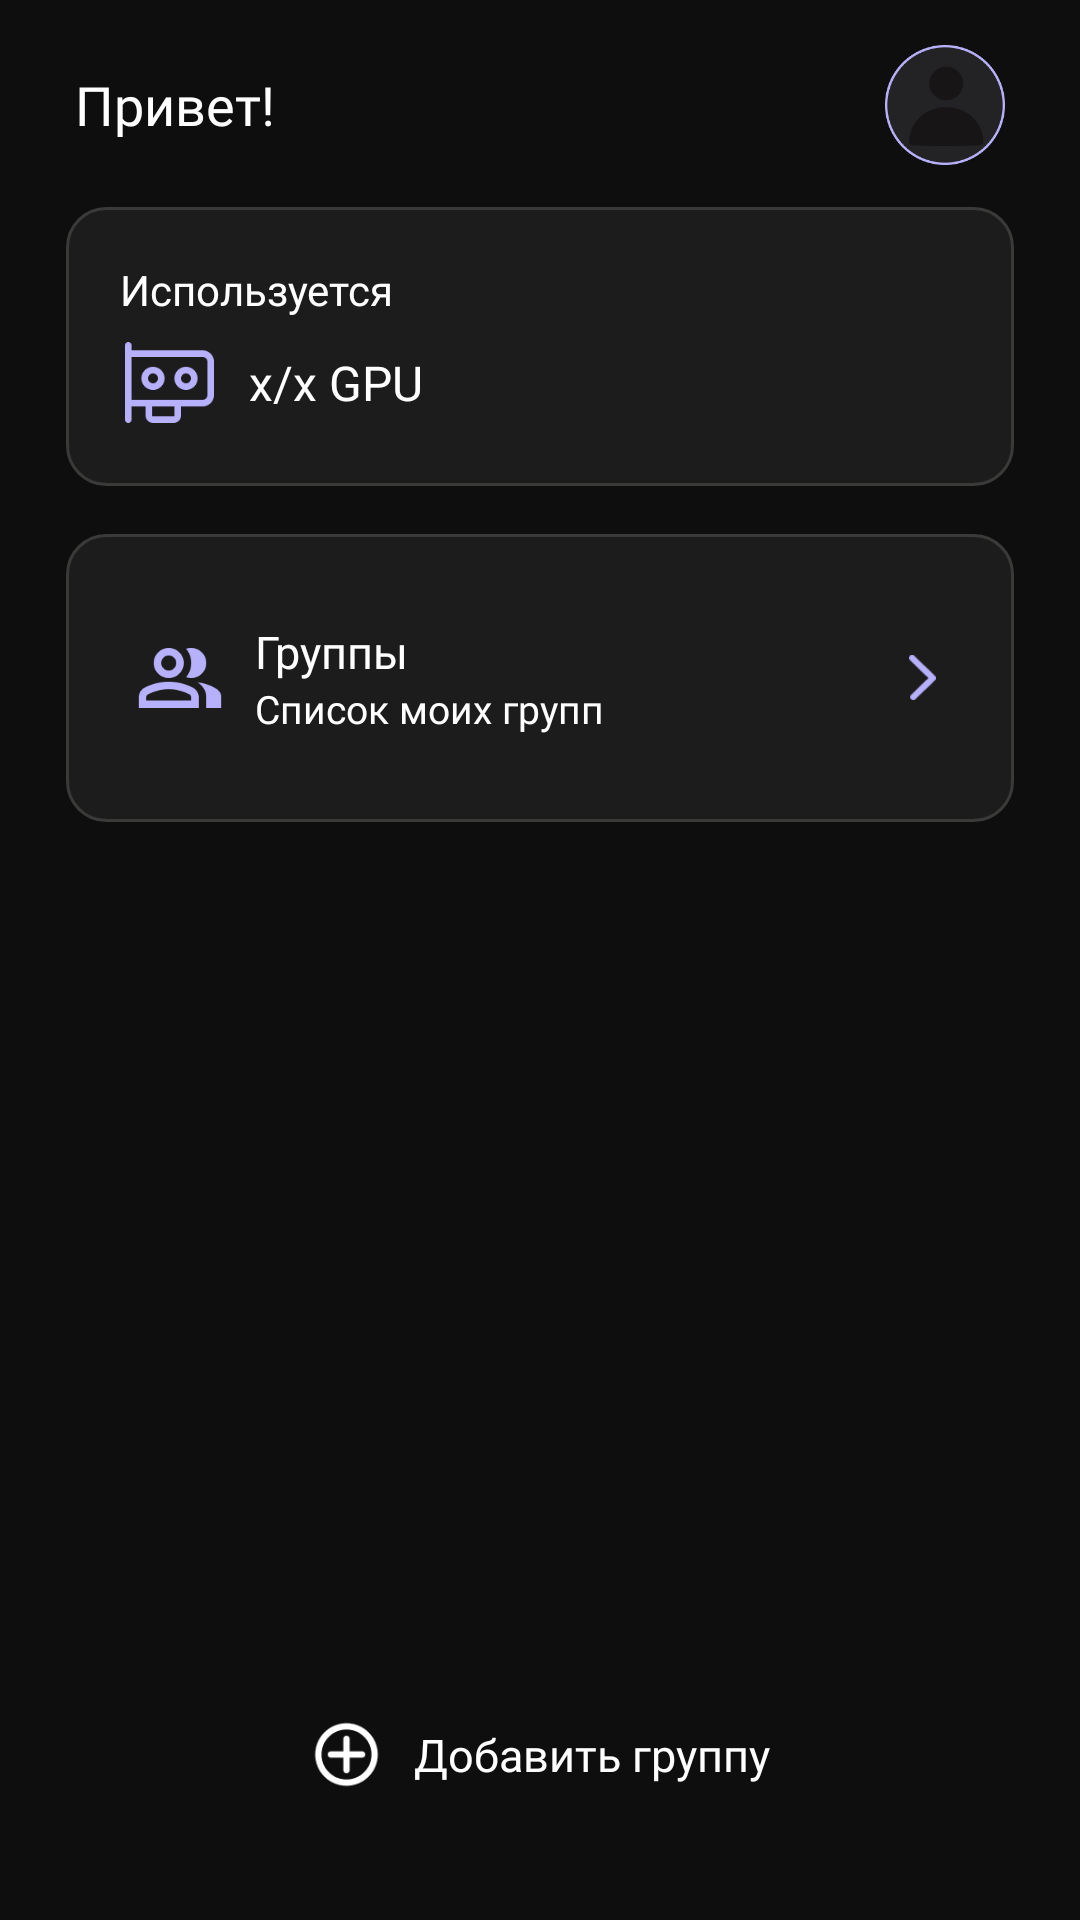

Where icons sit on this 1080px x 1920px app screen, as (x1, y1, x2, y2):
arrow to the right: (909, 655, 936, 700)
plus: (314, 1722, 379, 1787)
user group: (138, 648, 222, 708)
user profile: (885, 45, 1005, 165)
